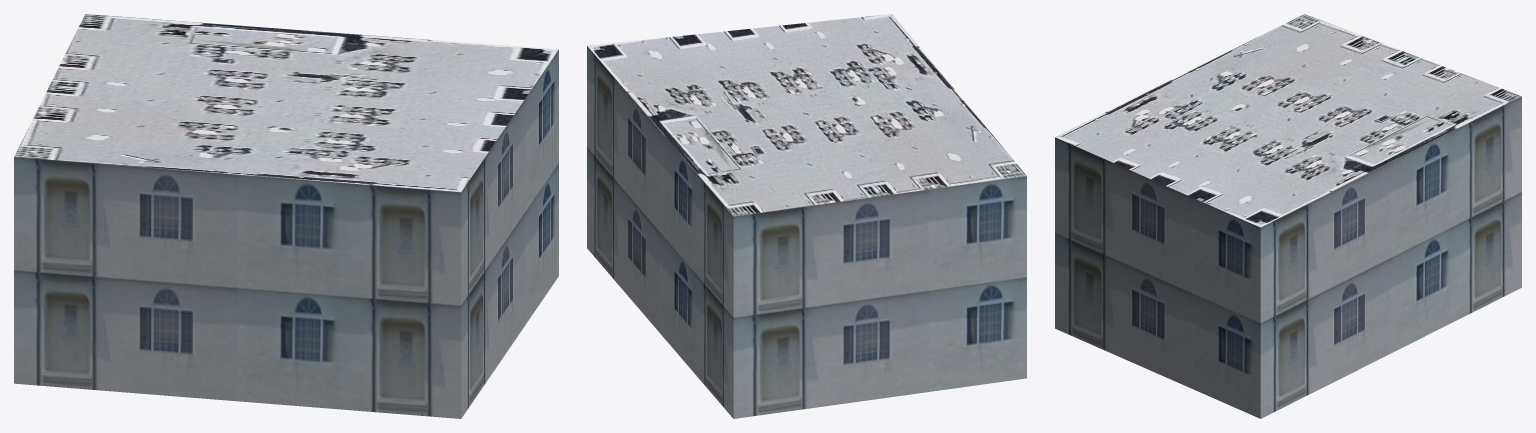
The model's file is ResTex__2864.fbx.
3 views of the same model, side by side, from view 1: azimuth 30°, elevation 25°; view 2: azimuth 150°, elevation 25°; view 3: azimuth 270°, elevation 25° (orthographic). The views are drawn at different scales.
Parts seen in each view (by area): view 1: CityEngineMaterial_17_m, CityEngineMaterial_m; view 2: CityEngineMaterial_17_m, CityEngineMaterial_m; view 3: CityEngineMaterial_17_m, CityEngineMaterial_m.
Part boxes in pixels (bbox=[...]): CityEngineMaterial_17_m: bbox=[14, 50, 558, 418]; CityEngineMaterial_m: bbox=[14, 14, 558, 192]; CityEngineMaterial_17_m: bbox=[587, 46, 1026, 418]; CityEngineMaterial_m: bbox=[587, 14, 1026, 216]; CityEngineMaterial_17_m: bbox=[1055, 96, 1521, 418]; CityEngineMaterial_m: bbox=[1055, 14, 1521, 227].
Bounding box in the file's own units: 14.36 × 6 × 13.27.
Materials: 2 (2 with a texture image).
